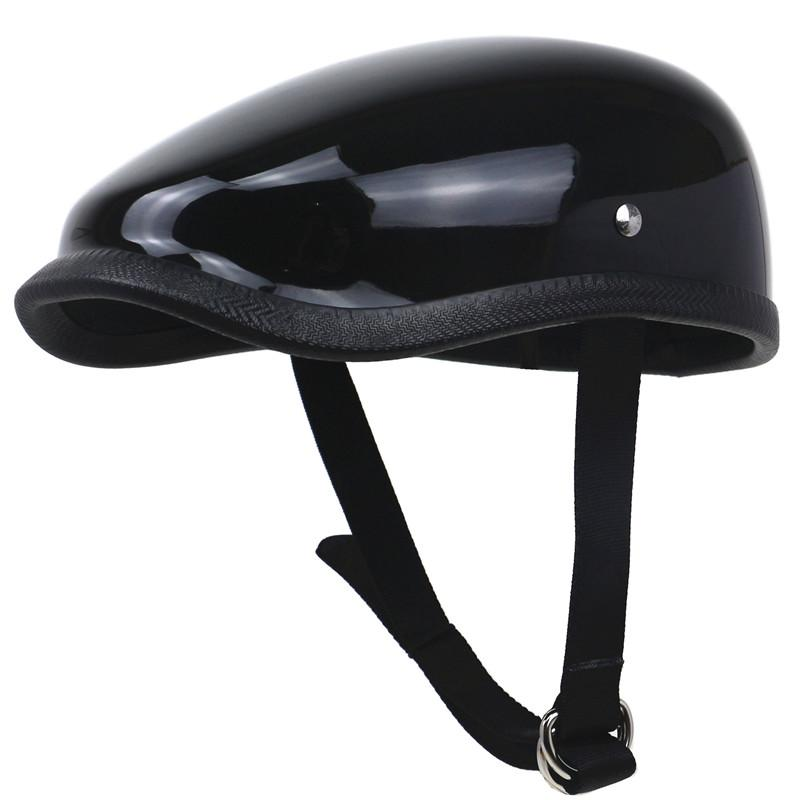with_helmet: (17, 23, 783, 396)
